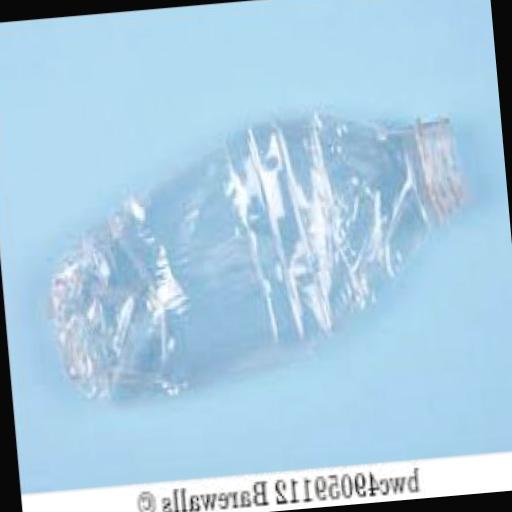plastic: (36, 94, 482, 401)
